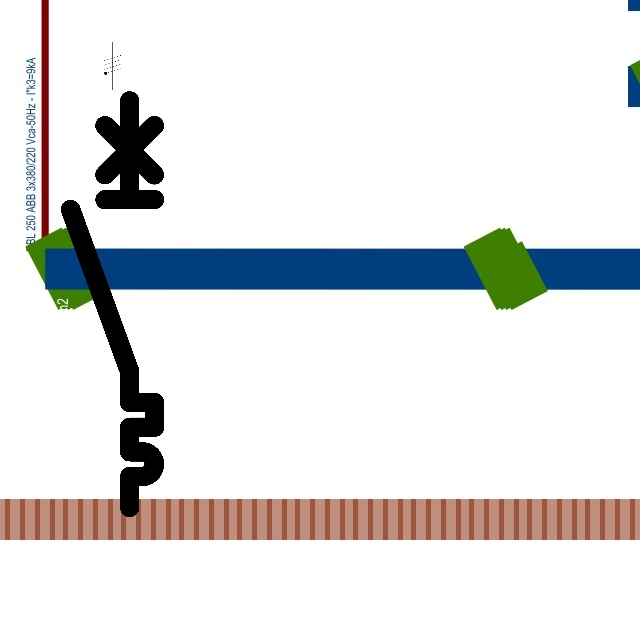interruptor_termomagnetico: (60, 90, 165, 518)
